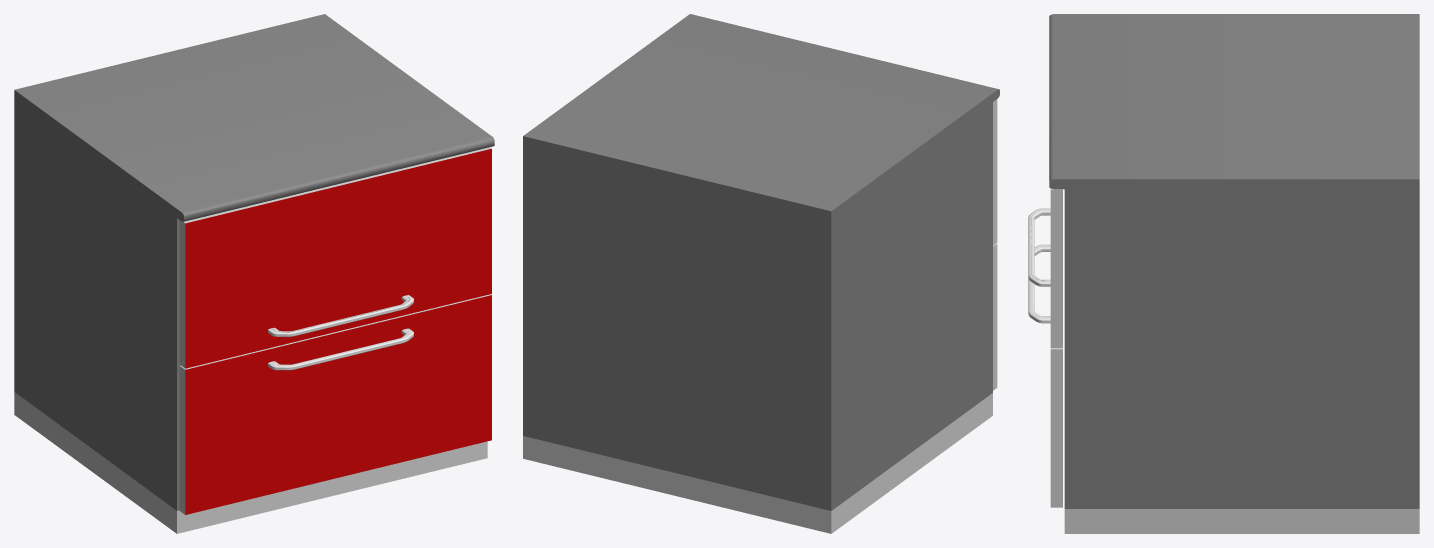
The model's file is sh-lp-mobiletto-piccolo.glb.
The picture shows the model from 3 angles, left to right: view 1: azimuth 30°, elevation 25°; view 2: azimuth 150°, elevation 25°; view 3: azimuth 270°, elevation 25°; orthographic projection. The views are drawn at different scales.
Parts seen in each view (by area): view 1: Box662_2, Line70_5, Box67_6, Box66_1, Loft26_4; view 2: Box67_6, Line70_5, Box66_1; view 3: Box67_6, Line70_5, Box66_1, Loft26_4.
Part boxes in pixels (x1,y1,x2,y2): Box662_2: (185,148,491,514); Line70_5: (14,14,494,221); Box67_6: (14,97,180,510); Box66_1: (14,147,491,533); Loft26_4: (268,295,413,370); Box67_6: (523,102,992,510); Line70_5: (523,14,999,219); Box66_1: (523,99,997,533); Box67_6: (1064,187,1419,508); Line70_5: (1049,14,1419,189); Box66_1: (1050,188,1419,533); Loft26_4: (1028,208,1050,323).
Size of the model in its own units: 1 by 1 by 1.
